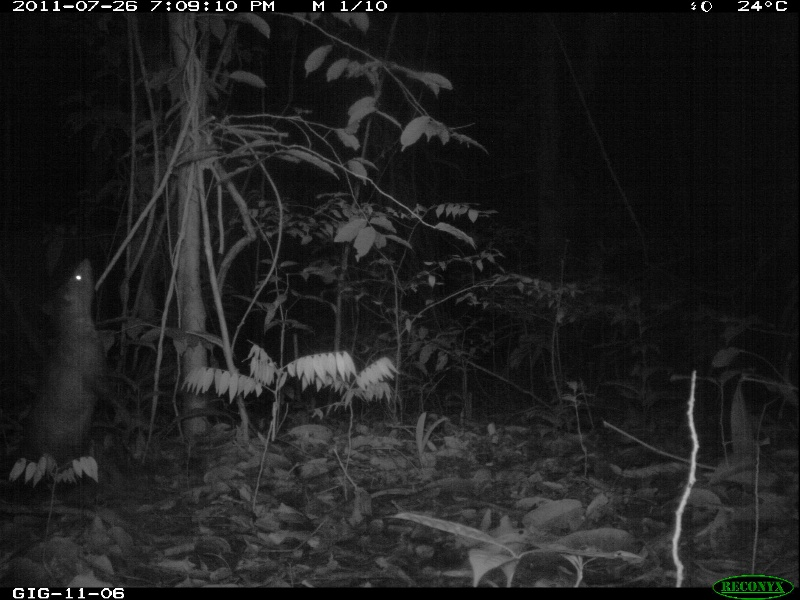opossum: (18, 253, 116, 472)
